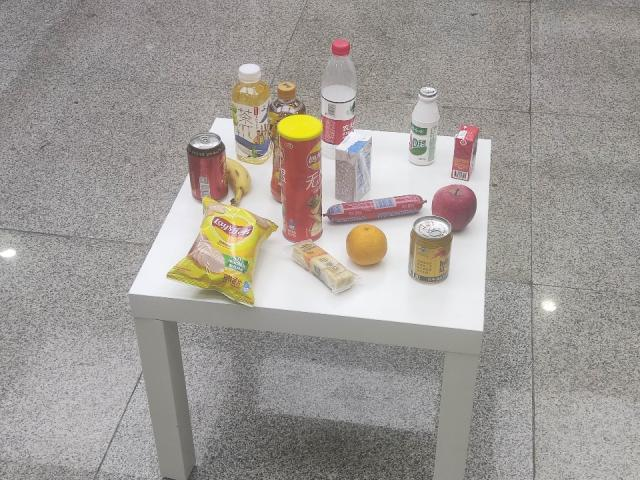Canned_drinks: (409, 214, 452, 284), (188, 132, 228, 203)
bottle: (319, 39, 358, 146)
cylinder: (273, 114, 328, 244)
drink_box: (330, 129, 377, 203), (448, 121, 482, 183)
